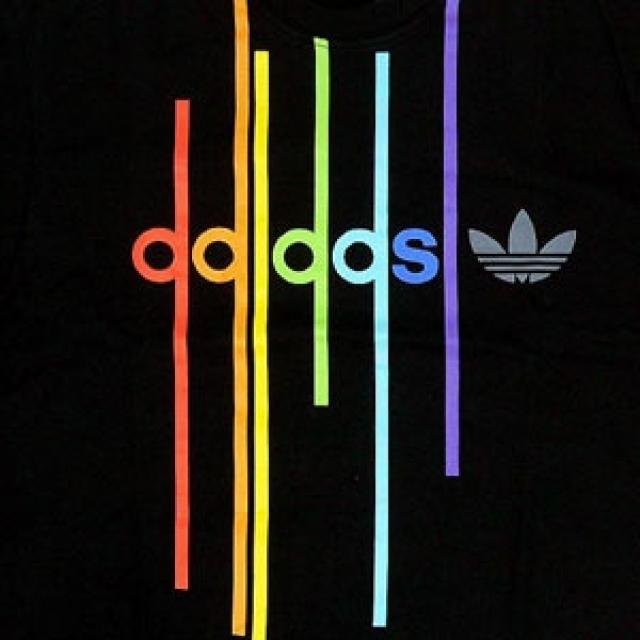adidas: (466, 202, 592, 296)
